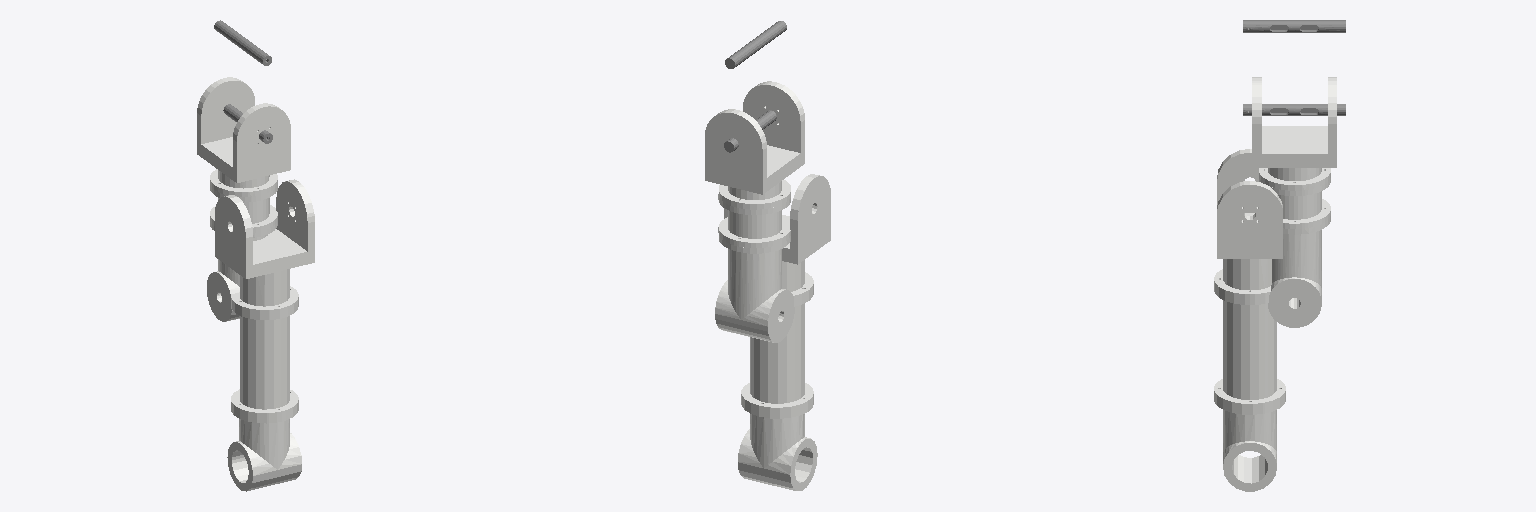
URDF robot description (Assembly_URDF v6):
<?xml version="1.0" encoding="utf-8"?>
<!-- This URDF was automatically created by SolidWorks to URDF Exporter! Originally created by [author] ([email redacted]) 
     Commit Version: 1.5.1-0-g916b5db  Build Version: 1.5.7152.31018
     For more information, please see http://wiki.ros.org/sw_urdf_exporter -->
<robot
  name="Assembly_URDF v6">
  <link
    name="base_link">
    <inertial>
      <origin
        xyz="-1.88332288303831E-05 0.163077243139101 -2.01206812296738E-08"
        rpy="0 0 0" />
      <mass
        value="2.50216732502464" />
      <inertia
        ixx="0.0653823275083831"
        ixy="1.06934829883646E-05"
        ixz="-1.98536691802712E-08"
        iyy="0.00548013594659747"
        iyz="-8.39676000995102E-09"
        izz="0.0665700447223665" />
    </inertial>
    <visual>
      <origin
        xyz="0 0 0"
        rpy="0 0 0" />
      <geometry>
        <mesh
          filename="package://Assembly_URDF v6/meshes/base_link.STL" />
      </geometry>
      <material
        name="">
        <color
          rgba="0.964705882352941 0.964705882352941 0.952941176470588 1" />
      </material>
    </visual>
    <collision>
      <origin
        xyz="0 0 0"
        rpy="0 0 0" />
      <geometry>
        <mesh
          filename="package://Assembly_URDF v6/meshes/base_link.STL" />
      </geometry>
    </collision>
  </link>
  <link
    name="shaft_Link1">
    <inertial>
      <origin
        xyz="-2.28346780373201E-08 0.0862779061401731 -0.000639254948745765"
        rpy="0 0 0" />
      <mass
        value="0.0469199566609967" />
      <inertia
        ixx="0.000119663056281602"
        ixy="-3.38099445013419E-11"
        ixz="1.86974367383666E-11"
        iyy="2.3411462214171E-06"
        iyz="-9.48476256334187E-08"
        izz="0.000119826953022064" />
    </inertial>
    <visual>
      <origin
        xyz="0 0 0"
        rpy="0 0 0" />
      <geometry>
        <mesh
          filename="package://Assembly_URDF v6/meshes/shaft_Link1.STL" />
      </geometry>
      <material
        name="">
        <color
          rgba="0.627450980392157 0.627450980392157 0.627450980392157 1" />
      </material>
    </visual>
    <collision>
      <origin
        xyz="0 0 0"
        rpy="0 0 0" />
      <geometry>
        <mesh
          filename="package://Assembly_URDF v6/meshes/shaft_Link1.STL" />
      </geometry>
    </collision>
  </link>
  <joint
    name="motor_1"
    type="revolute">
    <origin
      xyz="0.085 0 0.39"
      rpy="1.5708 -1.5708 0" />
    <parent
      link="base_link" />
    <child
      link="shaft_Link1" />
    <axis
      xyz="0 0 0" />
    <limit
      lower="-1.5708"
      upper="1.5708"
      effort="0"
      velocity="0" />
  </joint>
  <link
    name="Link_2">
    <inertial>
      <origin
        xyz="-0.00026050158922244 -0.00418554305359831 -1.76151432506244E-08"
        rpy="0 0 0" />
      <mass
        value="2.23900935342226" />
      <inertia
        ixx="0.00651527634561222"
        ixy="1.82478627012732E-05"
        ixz="3.75604928548178E-09"
        iyy="0.00499823395365336"
        iyz="-1.44186921277552E-08"
        izz="0.00754178994678366" />
    </inertial>
    <visual>
      <origin
        xyz="0 0 0"
        rpy="0 0 0" />
      <geometry>
        <mesh
          filename="package://Assembly_URDF v6/meshes/Link_2.STL" />
      </geometry>
      <material
        name="">
        <color
          rgba="0.964705882352941 0.964705882352941 0.952941176470588 1" />
      </material>
    </visual>
    <collision>
      <origin
        xyz="0 0 0"
        rpy="0 0 0" />
      <geometry>
        <mesh
          filename="package://Assembly_URDF v6/meshes/Link_2.STL" />
      </geometry>
    </collision>
  </link>
  <joint
    name="pitch movement"
    type="revolute">
    <origin
      xyz="0.00028402 0.0066603 0.541"
      rpy="-1.5708 0 -1.5708" />
    <parent
      link="base_link" />
    <child
      link="Link_2" />
    <axis
      xyz="0 0 0" />
    <limit
      lower="-1.5708"
      upper="1.5708"
      effort="0"
      velocity="0" />
  </joint>
  <link
    name="shaft_link2">
    <inertial>
      <origin
        xyz="-2.28346784814093E-08 0.0862779061401617 -0.000639254948745175"
        rpy="0 0 0" />
      <mass
        value="0.0469199566610043" />
      <inertia
        ixx="0.000119663056281604"
        ixy="-3.38099442568599E-11"
        ixz="1.86974367557585E-11"
        iyy="2.3411462214172E-06"
        iyz="-9.4847625632997E-08"
        izz="0.000119826953022066" />
    </inertial>
    <visual>
      <origin
        xyz="0 0 0"
        rpy="0 0 0" />
      <geometry>
        <mesh
          filename="package://Assembly_URDF v6/meshes/shaft_link2.STL" />
      </geometry>
      <material
        name="">
        <color
          rgba="0.627450980392157 0.627450980392157 0.627450980392157 1" />
      </material>
    </visual>
    <collision>
      <origin
        xyz="0 0 0"
        rpy="0 0 0" />
      <geometry>
        <mesh
          filename="package://Assembly_URDF v6/meshes/shaft_link2.STL" />
      </geometry>
    </collision>
  </link>
  <joint
    name="motor_2"
    type="revolute">
    <origin
      xyz="0.085 -0.18 0"
      rpy="0 0 1.5708" />
    <parent
      link="Link_2" />
    <child
      link="shaft_link2" />
    <axis
      xyz="0 0 0" />
    <limit
      lower="-1.57079633"
      upper="1.57079633"
      effort="0"
      velocity="0" />
  </joint>
  <link
    name="Link_3">
    <inertial>
      <origin
        xyz="0.00894239401770391 0.000280508075083926 -4.84079033716122E-05"
        rpy="0 0 0" />
      <mass
        value="0.973698526007838" />
      <inertia
        ixx="0.00203345368620413"
        ixy="-4.15867011984317E-06"
        ixz="-4.19134011282013E-06"
        iyy="0.00419113796679174"
        iyz="-1.30677423527313E-08"
        izz="0.00294630958867532" />
    </inertial>
    <visual>
      <origin
        xyz="0 0 0"
        rpy="0 0 0" />
      <geometry>
        <mesh
          filename="package://Assembly_URDF v6/meshes/Link_3.STL" />
      </geometry>
      <material
        name="">
        <color
          rgba="0.964705882352941 0.964705882352941 0.952941176470588 1" />
      </material>
    </visual>
    <collision>
      <origin
        xyz="0 0 0"
        rpy="0 0 0" />
      <geometry>
        <mesh
          filename="package://Assembly_URDF v6/meshes/Link_3.STL" />
      </geometry>
    </collision>
  </link>
  <joint
    name="yaw movement"
    type="revolute">
    <origin
      xyz="-0.0013889 0.0063996 0.792"
      rpy="0.2264 1.5708 -1.3444" />
    <parent
      link="base_link" />
    <child
      link="Link_3" />
    <axis
      xyz="0 0 0" />
    <limit
      lower="-1.57079633"
      upper="1.57079633"
      effort="0"
      velocity="0" />
    <mimic
      joint="yaw_move"
      multiplier="1"
      offset="0" />
  </joint>
  <link
    name="shaft_link3">
    <inertial>
      <origin
        xyz="-2.28346782593647E-08 0.0862779061401836 -0.000639254945797939"
        rpy="0 0 0" />
      <mass
        value="0.0469199566610041" />
      <inertia
        ixx="0.000119663056281603"
        ixy="-3.38099444190241E-11"
        ixz="1.86974367326263E-11"
        iyy="2.34114622142366E-06"
        iyz="-9.48476296463714E-08"
        izz="0.000119826953022059" />
    </inertial>
    <visual>
      <origin
        xyz="0 0 0"
        rpy="0 0 0" />
      <geometry>
        <mesh
          filename="package://Assembly_URDF v6/meshes/shaft_link3.STL" />
      </geometry>
      <material
        name="">
        <color
          rgba="0.627450980392157 0.627450980392157 0.627450980392157 1" />
      </material>
    </visual>
    <collision>
      <origin
        xyz="0 0 0"
        rpy="0 0 0" />
      <geometry>
        <mesh
          filename="package://Assembly_URDF v6/meshes/shaft_link3.STL" />
      </geometry>
    </collision>
  </link>
  <joint
    name="motor_3"
    type="revolute">
    <origin
      xyz="-0.08 0 0.085"
      rpy="-1.5708 0 0" />
    <parent
      link="Link_3" />
    <child
      link="shaft_link3" />
    <axis
      xyz="0 0 0" />
    <limit
      lower="-1.5708"
      upper="1.5708"
      effort="0"
      velocity="0" />
    <mimic
      joint="motor_2"
      multiplier="1"
      offset="0" />
  </joint>
  <link
    name="Gripper_link">
    <inertial>
      <origin
        xyz="0.0216976226908029 -0.122547144464513 0.0814178968872003"
        rpy="0 0 0" />
      <mass
        value="0.822220892683506" />
      <inertia
        ixx="0.00271143118949349"
        ixy="7.85142372268063E-05"
        ixz="-3.38432826092458E-07"
        iyy="0.00174277915122354"
        iyz="1.08542481268539E-06"
        izz="0.00120037814165359" />
    </inertial>
    <visual>
      <origin
        xyz="0 0 0"
        rpy="0 0 0" />
      <geometry>
        <mesh
          filename="package://Assembly_URDF v6/meshes/Gripper_link.STL" />
      </geometry>
      <material
        name="">
        <color
          rgba="0.964705882352941 0.964705882352941 0.952941176470588 1" />
      </material>
    </visual>
    <collision>
      <origin
        xyz="0 0 0"
        rpy="0 0 0" />
      <geometry>
        <mesh
          filename="package://Assembly_URDF v6/meshes/Gripper_link.STL" />
      </geometry>
    </collision>
  </link>
  <joint
    name="yaw_move"
    type="revolute">
    <origin
      xyz="-0.02769 0.086208 1.0682"
      rpy="1.5708 0 0" />
    <parent
      link="base_link" />
    <child
      link="Gripper_link" />
    <axis
      xyz="0 0 0" />
    <limit
      lower="-1.5708"
      upper="1.5708"
      effort="0"
      velocity="0" />
    <mimic
      joint="yaw movement"
      multiplier="1"
      offset="0" />
  </joint>
</robot>

--- Facts derived from the render (not from the file) ---
The picture shows the robot from 3 angles, left to right: view 1: azimuth 30°, elevation 25°; view 2: azimuth 150°, elevation 25°; view 3: azimuth 270°, elevation 25°; orthographic projection.
Robot: Assembly_URDF v6 — 7 links, 6 joints (6 revolute); root link base_link; default pose: all joints at 0.
Links seen in each view (by area): view 1: base_link, Link_2, shaft_link3; view 2: Link_2, base_link, shaft_link3; view 3: base_link, Link_2, shaft_link3, shaft_link2.
Link boxes in pixels (x1,y1,x2,y2): base_link: (215, 179, 314, 491); Link_2: (197, 77, 290, 321); shaft_link3: (214, 20, 271, 65); Link_2: (705, 81, 804, 342); base_link: (724, 174, 830, 490); shaft_link3: (725, 21, 786, 68); base_link: (1214, 149, 1285, 491); Link_2: (1252, 77, 1336, 327); shaft_link3: (1243, 20, 1345, 32); shaft_link2: (1243, 104, 1345, 115).
Bounding box of the posed robot: 0.14 × 0.2189 × 0.8343 m (x, y, z).
Meshes: 7 distinct files referenced, 4 mesh visuals loaded (4 binary STL); not drawn: 3 (reference not matched to a file when rendering).